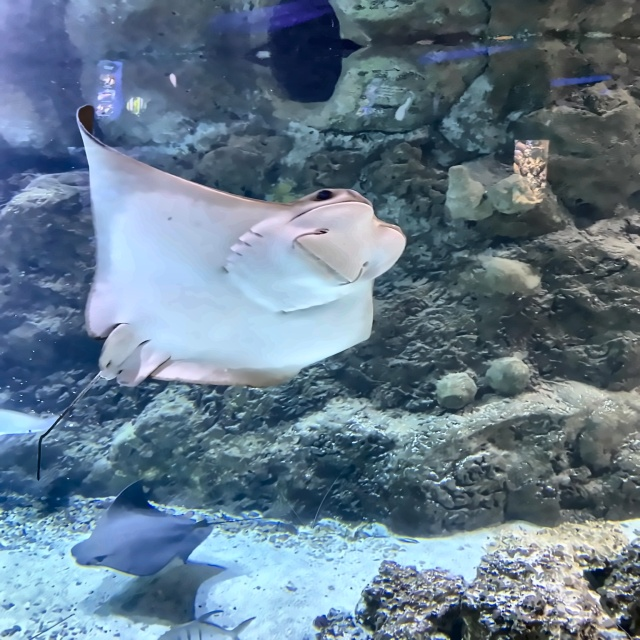fish: (154, 608, 256, 639)
stingray: (76, 105, 406, 388), (70, 479, 215, 578)
